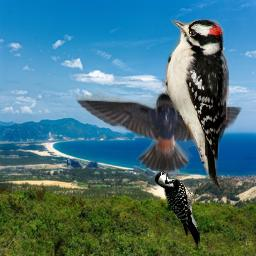Swallow: (71, 90, 244, 173)
Woodpecker: (162, 19, 229, 188), (154, 164, 200, 250)
